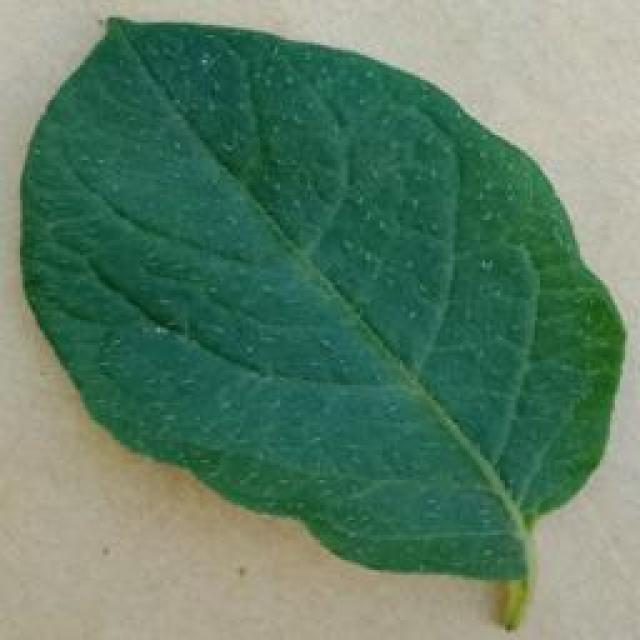Potato_Healthy: (19, 17, 619, 627)
